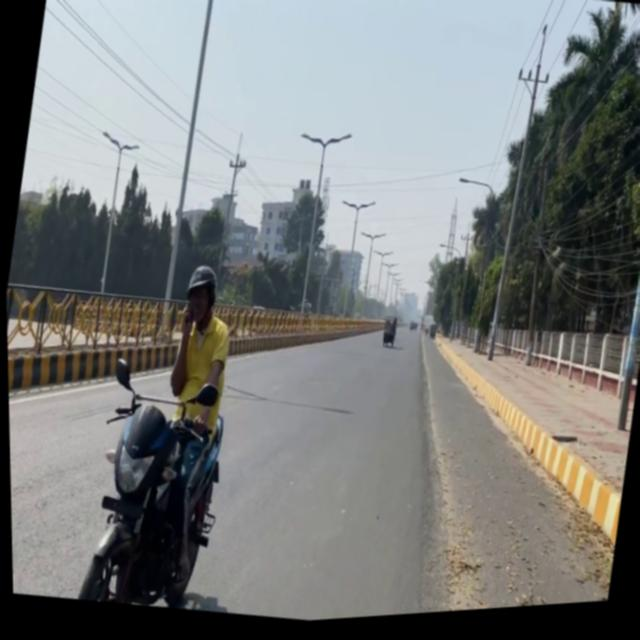Construction-barrier: (371, 328, 494, 621)
Fallen-tree: (69, 351, 238, 619), (407, 325, 415, 336)
Light-pole: (150, 0, 225, 337), (605, 22, 640, 439)
Pole: (5, 256, 205, 411)
Pothole: (412, 327, 640, 515)
Traffic-cone: (378, 320, 397, 353)
